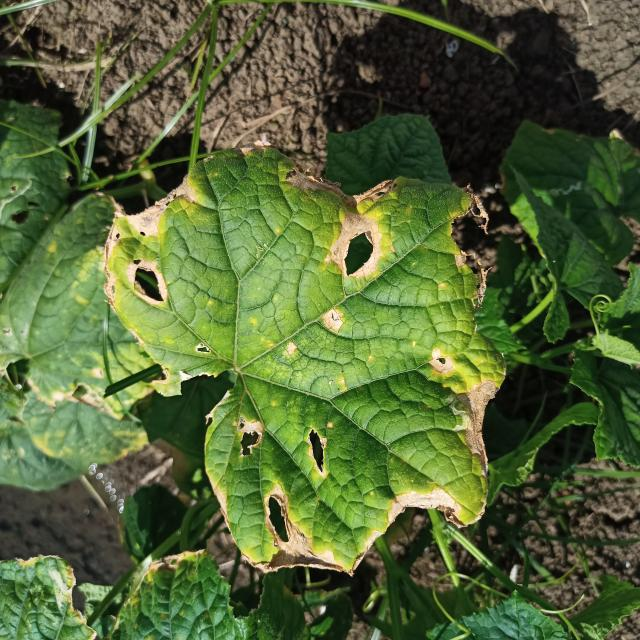disease_cucumber: (108, 142, 508, 571)
